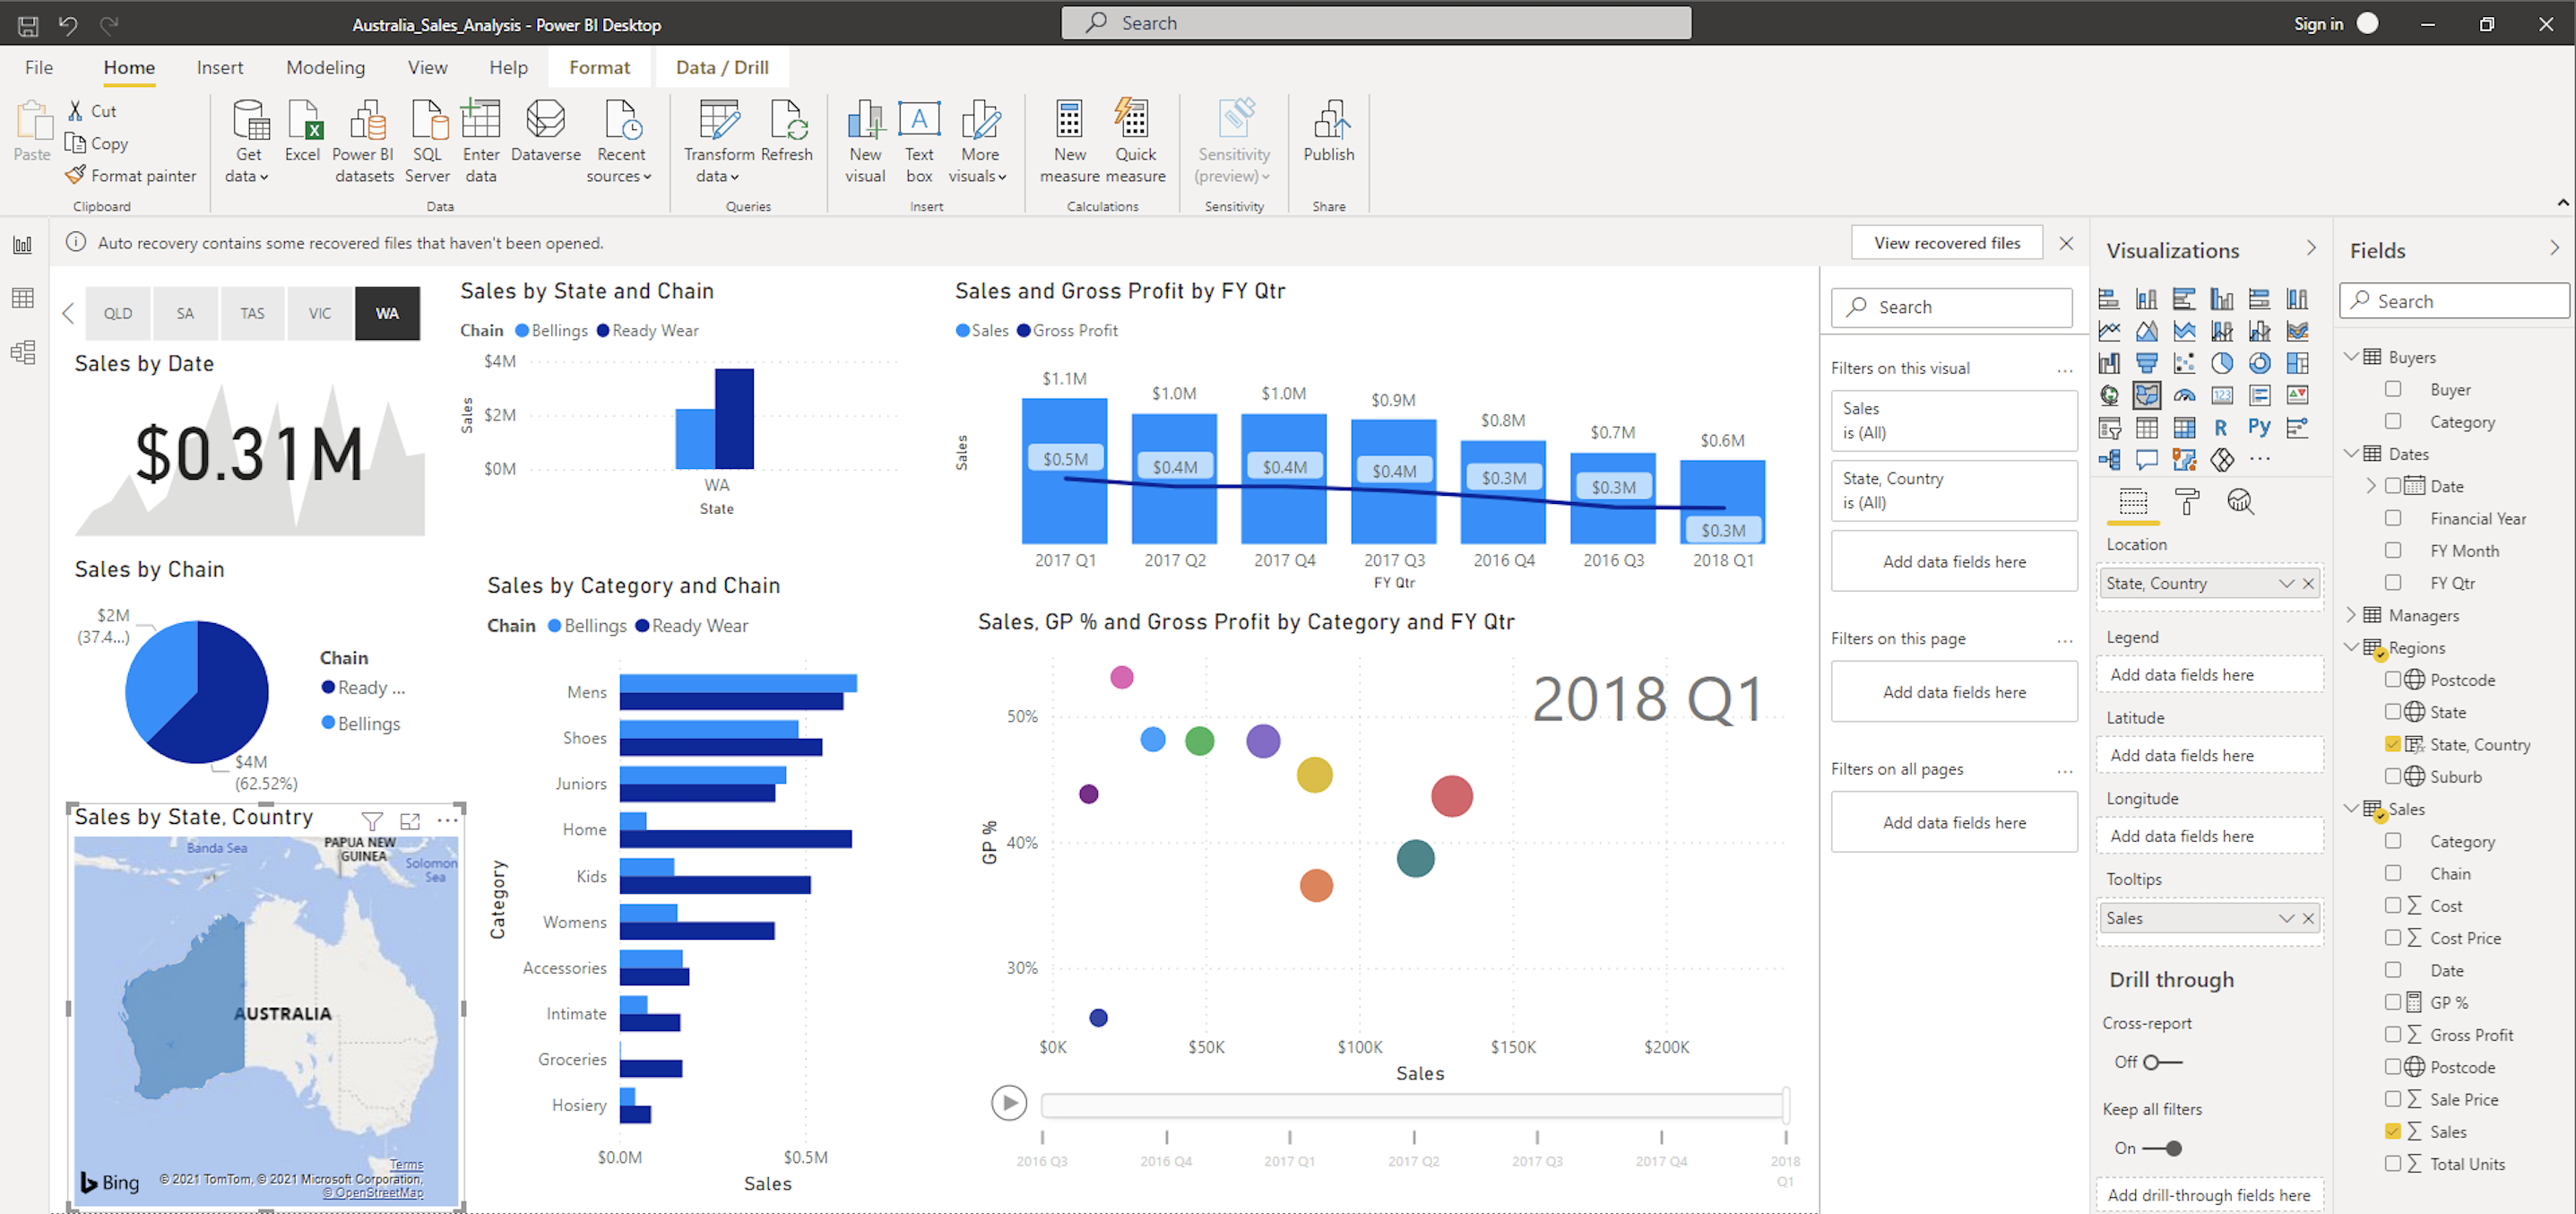

Layout of this report page (visuals, bound fields, positions):
{"tool":"powerbi","page":{"name":"Page 1","canvas":[1280,720],"ordinal":0},"visuals":[{"type":"kpi","fields":{"Indicator":["Sum(Sales.Sales)"],"TrendLine":["Dates.Date"]},"box":[12.6,95.3,263.6,140.1],"z":0},{"type":"clusteredColumnChart","fields":{"Y":["Sum(Sales.Sales)"],"Category":["Regions.State"],"Series":["Sales.Chain"]},"box":[291.8,42.8,330.7,178],"z":1000},{"type":"lineClusteredColumnComboChart","fields":{"Category":["Dates.FY Qtr"],"Y":["Sum(Sales.Sales)"],"Y2":["Sum(Sales.Gross Profit)"]},"box":[649.7,42.8,630.3,232.5],"z":2000},{"type":"pieChart","fields":{"Category":["Sales.Chain"],"Y":["Sum(Sales.Sales)"]},"box":[12.6,244.1,264.6,179],"z":3000},{"type":"filledMap","fields":{"Category":["Regions.State, Country"]},"box":[12.6,423.1,287.9,296.7],"z":4000},{"type":"clusteredBarChart","fields":{"Category":["Sales.Category"],"Y":["Sum(Sales.Sales)"],"Series":["Sales.Chain"]},"box":[311.2,255.8,338.5,455.2],"z":5000},{"type":"scatterChart","fields":{"X":["Sum(Sales.Sales)"],"Category":["Sales.Category"],"Y":["Sales.GP %"],"Size":["Sum(Sales.Gross Profit)"],"Play":["Dates.FY Qtr"]},"box":[666.3,282.1,613.7,428.9],"z":5001},{"type":"slicer","fields":{"Values":["Regions.State"]},"box":[0,42.8,291.8,52.5],"z":5002}]}

Visuals, with their boxes on the page's 1280x720 design canvas (x1, y1, x2, y2). These are canvas units, not pixel positions in the 2576x1214 screenshot, which may show the page scaled, cropped or inside an application window:
kpi - Sum(Sales.Sales) x Dates.Date: box(13, 95, 276, 235)
clusteredColumnChart - Sum(Sales.Sales) x Regions.State: box(292, 43, 622, 221)
lineClusteredColumnComboChart - Dates.FY Qtr x Sum(Sales.Sales): box(650, 43, 1280, 275)
pieChart - Sales.Chain x Sum(Sales.Sales): box(13, 244, 277, 423)
filledMap - Regions.State, Country: box(13, 423, 300, 720)
clusteredBarChart - Sales.Category x Sum(Sales.Sales): box(311, 256, 650, 711)
scatterChart - Sum(Sales.Sales) x Sales.Category: box(666, 282, 1280, 711)
slicer - Regions.State: box(0, 43, 292, 95)
